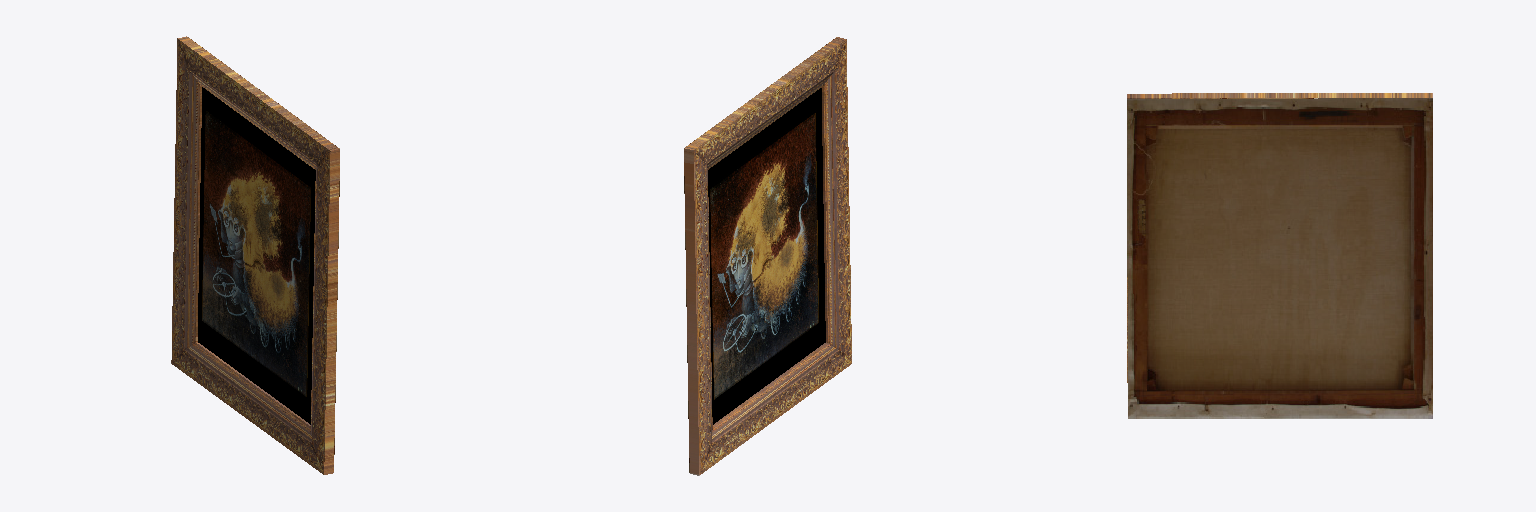
3 views of the same model, side by side, from view 1: azimuth 30°, elevation 25°; view 2: azimuth 150°, elevation 25°; view 3: azimuth 270°, elevation 25° (orthographic).
Visible parts, largest first — view 1: Canvas, Frame; view 2: Canvas, Frame; view 3: Back, Frame.
Boxes of the visible parts, box(x1,y1,x2,y2) form: Canvas: box(198, 87, 315, 424); Frame: box(171, 36, 339, 474); Canvas: box(708, 88, 825, 424); Frame: box(684, 37, 851, 475); Back: box(1127, 98, 1432, 418); Frame: box(1127, 93, 1432, 382).
Size of the model in its own units: 2.72 by 52.78 by 45.21.
3 materials, 3 textured.